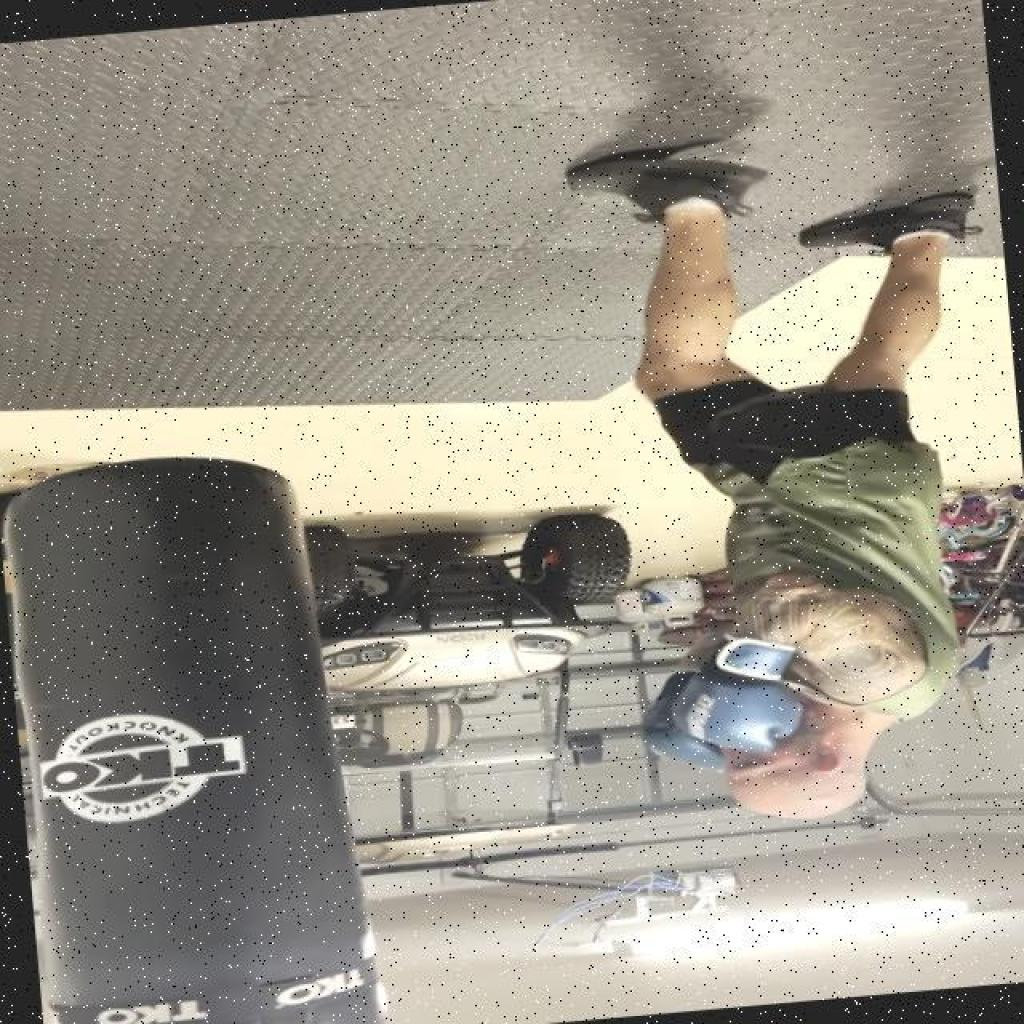uppercut: (542, 486, 984, 864)
